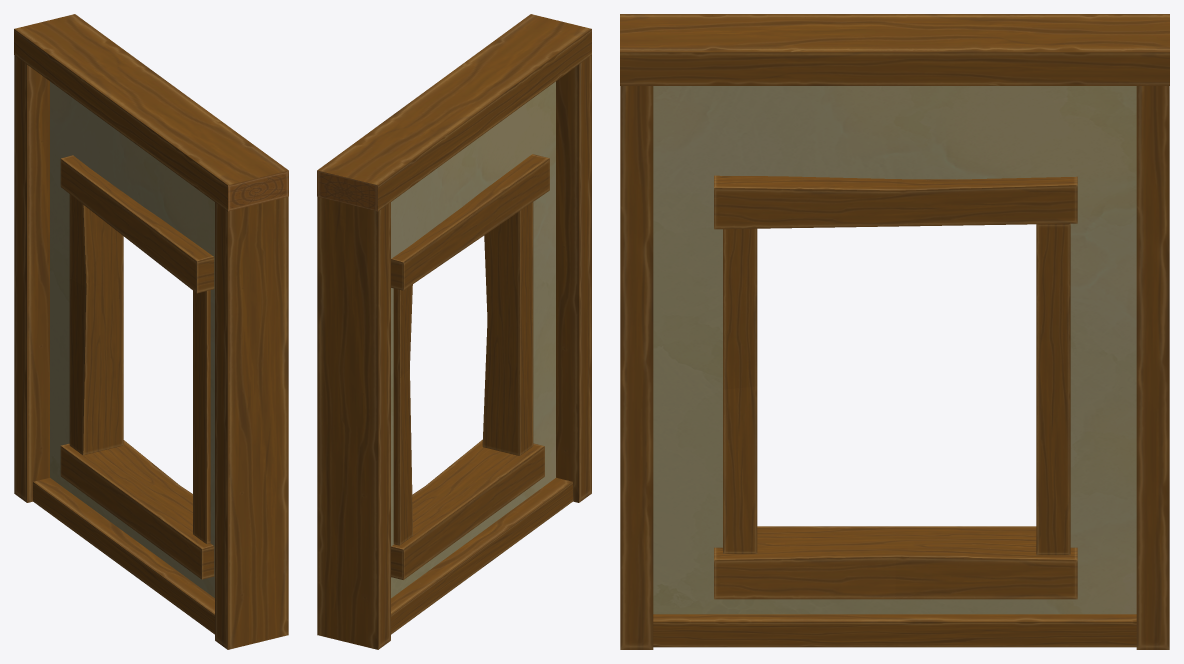
File: SM_House_Roof_01_WallMiddle_A_04.fbx
3 views of the same model, side by side, from view 1: azimuth 30°, elevation 25°; view 2: azimuth 150°, elevation 25°; view 3: azimuth 270°, elevation 25° (orthographic). The views are drawn at different scales.
Parts seen in each view (by area): view 1: SM_House_Roof_01_WallMiddle_A_04; view 2: SM_House_Roof_01_WallMiddle_A_04; view 3: SM_House_Roof_01_WallMiddle_A_04.
Boxes of the visible parts, <box> form: SM_House_Roof_01_WallMiddle_A_04: <box>14,14,288,649</box>; SM_House_Roof_01_WallMiddle_A_04: <box>317,14,591,649</box>; SM_House_Roof_01_WallMiddle_A_04: <box>620,14,1169,649</box>.
Size of the model in its own units: 0.4363 by 3 by 2.5.
